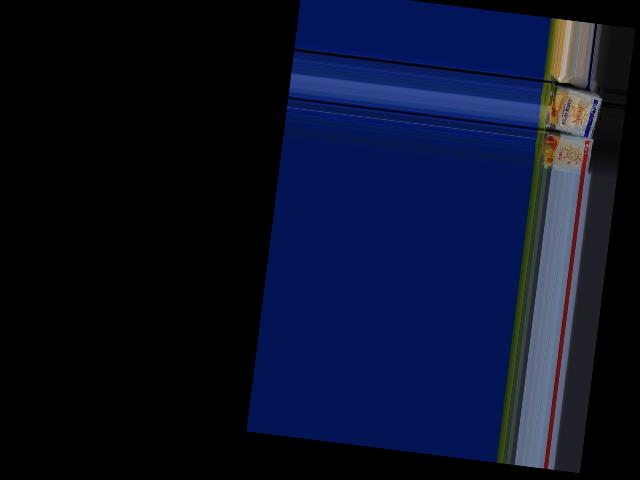cheese: (532, 131, 596, 176)
